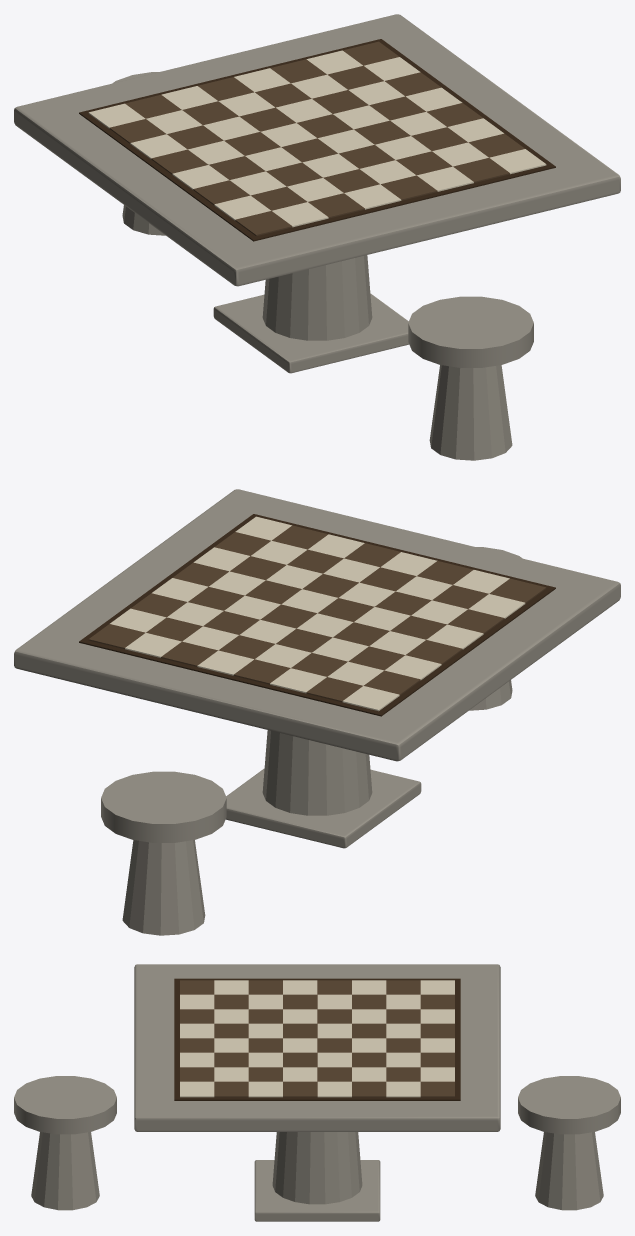
Rendered from chess-table.glb.
3 renders of one model, top to bottom at view 1: azimuth 30°, elevation 25°; view 2: azimuth 150°, elevation 25°; view 3: azimuth 270°, elevation 25°, orthographic. The views are drawn at different scales.
Parts seen in each view (by area): view 1: part-stone, part-light, part-dark, part-inlay; view 2: part-stone, part-dark, part-light, part-inlay; view 3: part-stone, part-dark, part-light, part-inlay.
Boxes of the visible parts, x1,y1,x2,y2 form: part-stone: (14, 14, 620, 460); part-light: (88, 50, 546, 227); part-dark: (109, 41, 524, 236); part-inlay: (79, 39, 555, 241); part-stone: (14, 489, 620, 935); part-dark: (88, 525, 546, 702); part-light: (110, 516, 525, 711); part-inlay: (79, 514, 555, 716); part-stone: (14, 964, 620, 1221); part-dark: (180, 980, 454, 1097); part-light: (180, 980, 454, 1097); part-inlay: (174, 978, 460, 1100).
Bounding box in the file's own units: 64.01 × 30.4 × 106.
